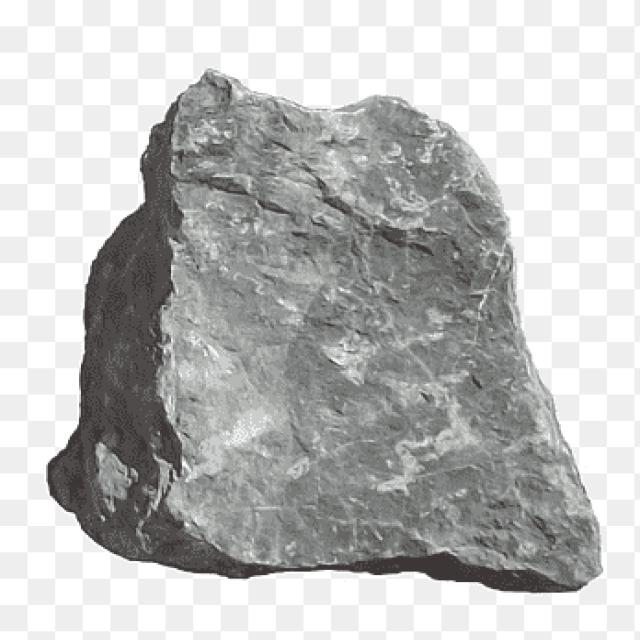Pecahan Agregat: (38, 64, 609, 617)
